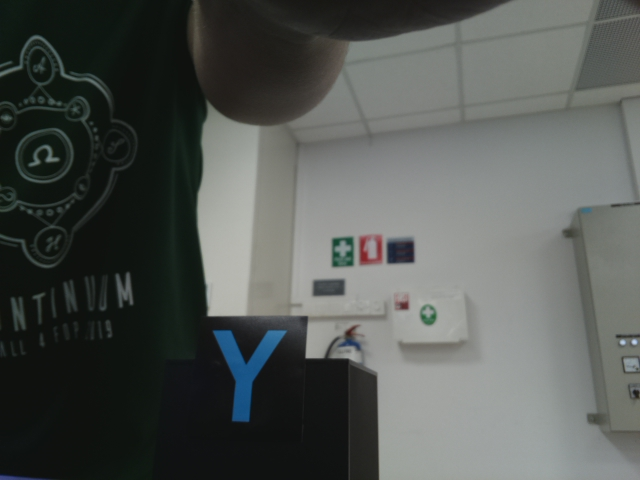y: (208, 326, 292, 427)
